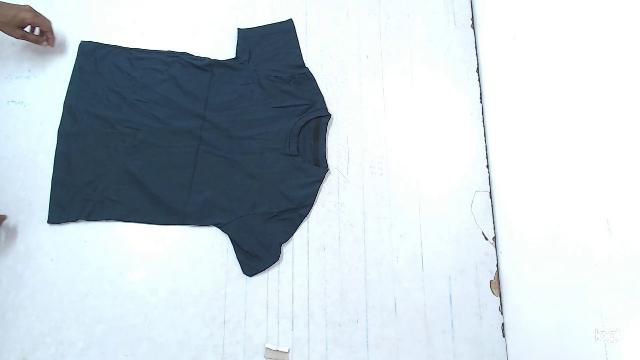new-garment: (48, 19, 330, 276)
